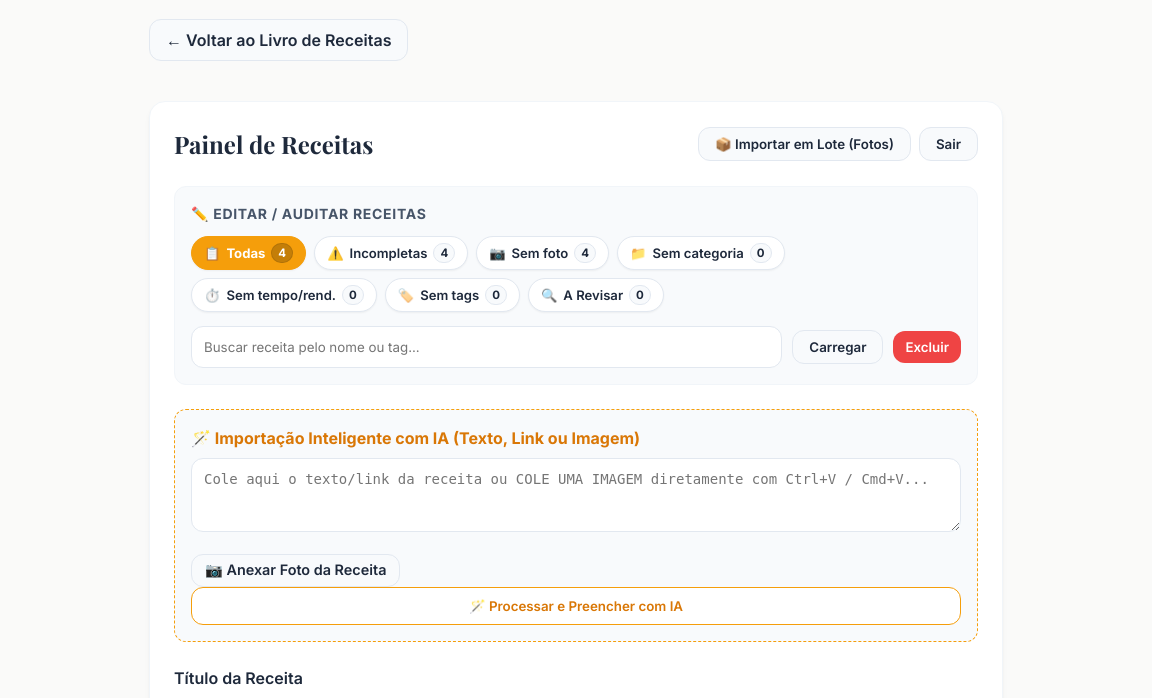
Test: Fluxo 6: Importação por IA → Fallback de Categoria em 3 Níveis (AIImportBox.integration.test.jsx) › Nível 1 (exato): seleciona diretamente a categoria quando a chave bate exatamente
The width and height of the screenshot is (1152, 698).
Expected: the heading "Painel de Receitas" is shown, [174,126,373,162]
Replace the text in the text box named "Texto, URL ou imagem da receita para importação inteligente" with "Mousse de chocolate simples": (576, 495) [191,458,961,532]
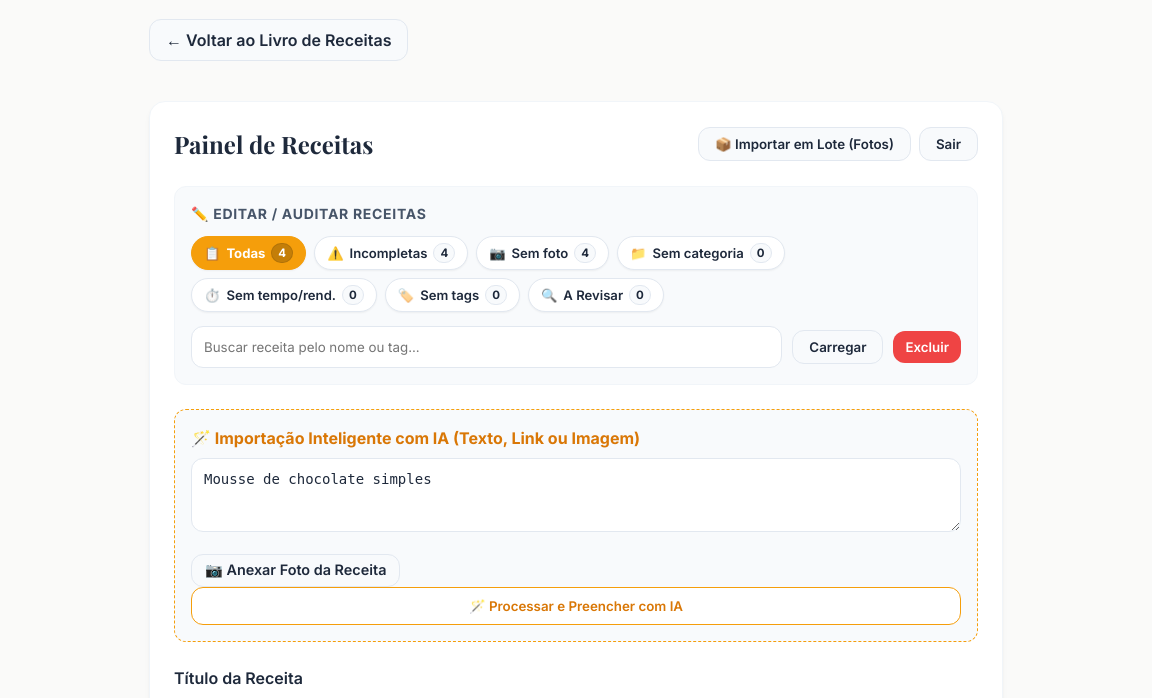
Click the button with aria-label "Importar e preencher receita com IA": (576, 606) [191,587,961,625]
(page scrolled)
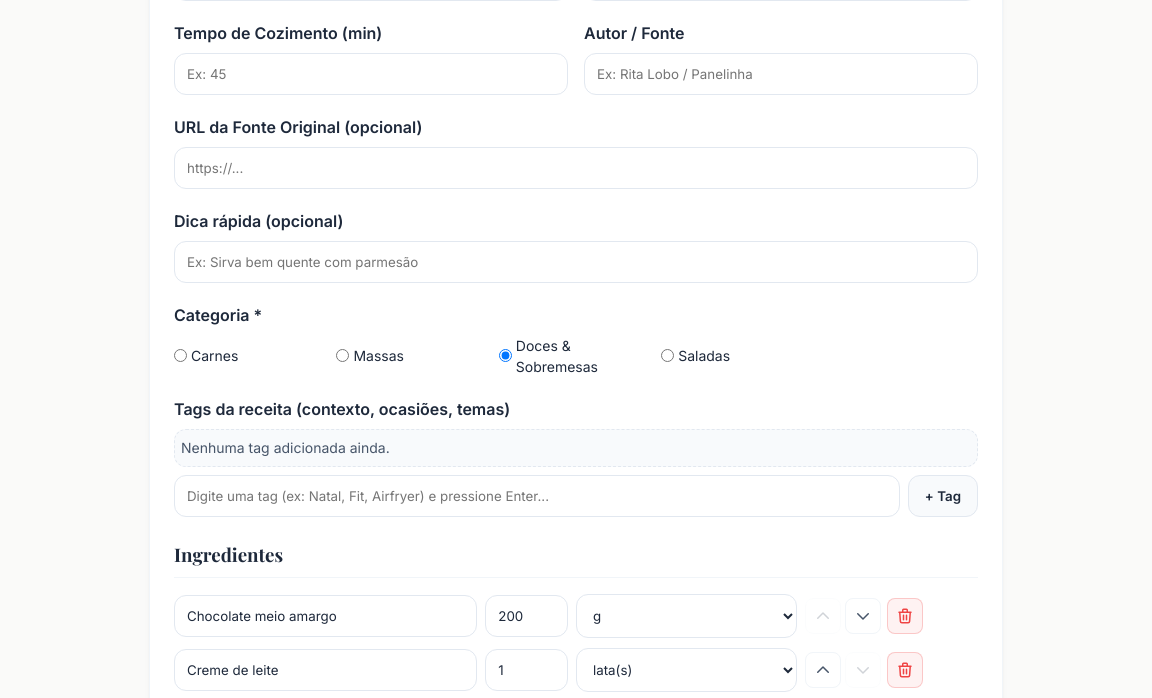
Now the radio button labelled "Doces & Sobremesas" is checked, box [499,349,512,362]
